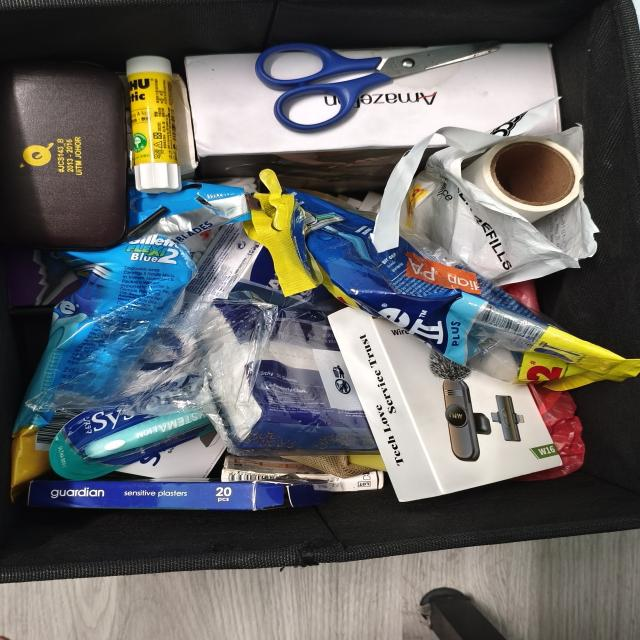glue: (122, 55, 183, 194)
scissor: (255, 41, 499, 132)
